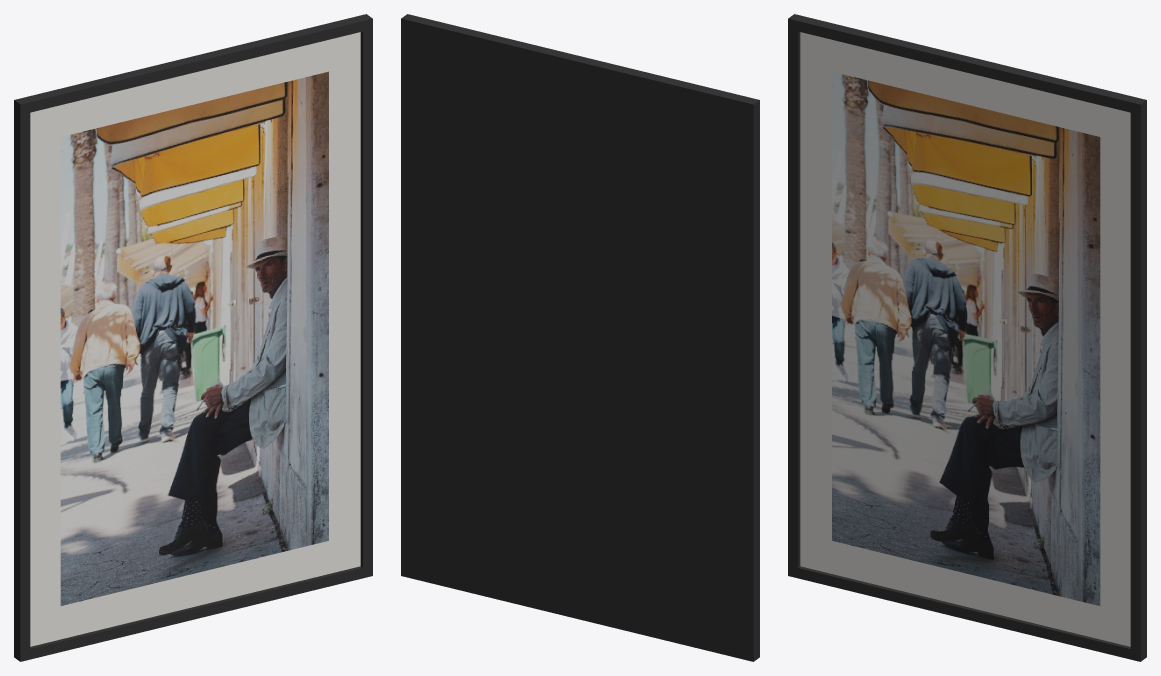
Rendered from markiserna-90.gltf.
3 views of the same model, side by side, from view 1: azimuth 30°, elevation 25°; view 2: azimuth 150°, elevation 25°; view 3: azimuth 330°, elevation 25° (orthographic).
Parts seen in each view (by area): view 1: tavla; view 2: tavla; view 3: tavla.
Boxes of the visible parts, left/top/right/bottom form: tavla: left=14, top=14, right=372, bottom=661; tavla: left=401, top=14, right=759, bottom=661; tavla: left=788, top=14, right=1146, bottom=661.
Bounding box in the file's own units: 0.7075 × 1.07 × 0.022.
Materials: 3 (1 with a texture image).
